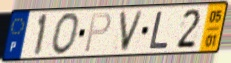1: (32, 12, 49, 58)
2: (173, 8, 204, 50)
L: (147, 10, 170, 51)
O: (50, 11, 82, 57)
P: (82, 11, 113, 55)
V: (118, 9, 146, 53)
